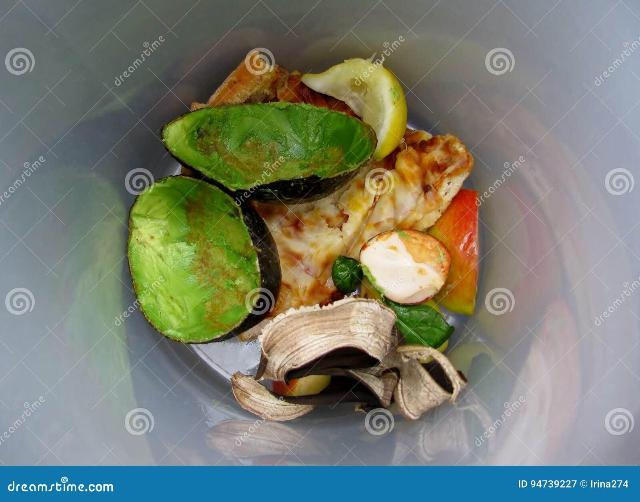Garbage: (128, 58, 480, 423)
